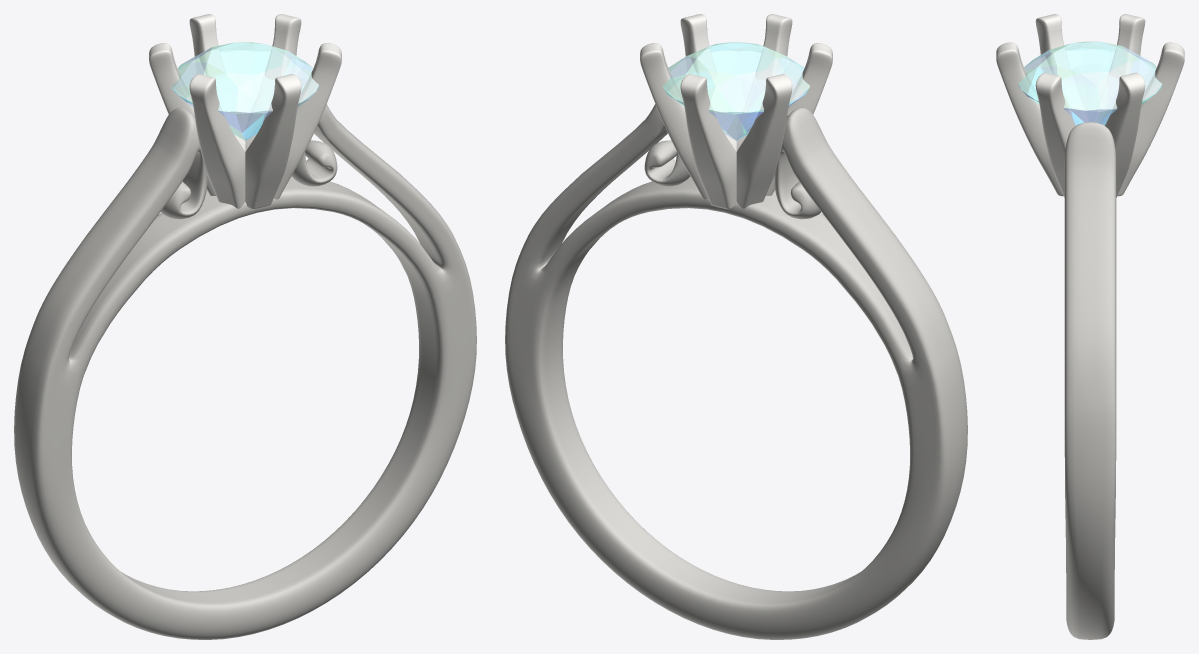
3 views of the same model, side by side, from view 1: azimuth 30°, elevation 25°; view 2: azimuth 150°, elevation 25°; view 3: azimuth 270°, elevation 25° (orthographic). The views are drawn at different scales.
Visible parts, largest first — view 1: Layer 02(805D15DE-A924-43FA-8D7A-ADD16711300C), Diamond_Round(44F64F1B-52D7-4588-BD00-1A5242B2ACEF), Layer 02(F8CFA0B3-F978-4781-A988-0CBB15BE5199), Layer 02(427230C5-A20C-4345-B4D0-DAF465520F6F), Layer 02(BFC679F0-8A92-4658-B3F6-0063EBA39047), Layer 02(2A53914D-05DD-40F1-9F04-DC568554DB18), Layer 02(ACBE7E28-9450-465B-BAFB-ADCAD176A19F), Layer 02(F5360C41-58A0-41E4-8BD1-5F379E0C0432); view 2: Layer 02(805D15DE-A924-43FA-8D7A-ADD16711300C), Diamond_Round(44F64F1B-52D7-4588-BD00-1A5242B2ACEF), Layer 02(ACBE7E28-9450-465B-BAFB-ADCAD176A19F), Layer 02(2A53914D-05DD-40F1-9F04-DC568554DB18), Layer 02(F5360C41-58A0-41E4-8BD1-5F379E0C0432), Layer 02(427230C5-A20C-4345-B4D0-DAF465520F6F), Layer 02(BFC679F0-8A92-4658-B3F6-0063EBA39047), Layer 02(F8CFA0B3-F978-4781-A988-0CBB15BE5199); view 3: Layer 02(805D15DE-A924-43FA-8D7A-ADD16711300C), Diamond_Round(44F64F1B-52D7-4588-BD00-1A5242B2ACEF), Layer 02(F8CFA0B3-F978-4781-A988-0CBB15BE5199), Layer 02(ACBE7E28-9450-465B-BAFB-ADCAD176A19F), Layer 02(BFC679F0-8A92-4658-B3F6-0063EBA39047), Layer 02(F5360C41-58A0-41E4-8BD1-5F379E0C0432), Layer 02(2A53914D-05DD-40F1-9F04-DC568554DB18), Layer 02(427230C5-A20C-4345-B4D0-DAF465520F6F).
Boxes of the visible parts, box(x1,y1,x2,y2) form: Layer 02(805D15DE-A924-43FA-8D7A-ADD16711300C): box(14, 104, 476, 639); Diamond_Round(44F64F1B-52D7-4588-BD00-1A5242B2ACEF): box(172, 42, 318, 140); Layer 02(F8CFA0B3-F978-4781-A988-0CBB15BE5199): box(245, 74, 301, 209); Layer 02(427230C5-A20C-4345-B4D0-DAF465520F6F): box(189, 74, 245, 208); Layer 02(BFC679F0-8A92-4658-B3F6-0063EBA39047): box(274, 43, 341, 199); Layer 02(2A53914D-05DD-40F1-9F04-DC568554DB18): box(149, 43, 215, 195); Layer 02(ACBE7E28-9450-465B-BAFB-ADCAD176A19F): box(189, 14, 245, 151); Layer 02(F5360C41-58A0-41E4-8BD1-5F379E0C0432): box(245, 14, 301, 151); Layer 02(805D15DE-A924-43FA-8D7A-ADD16711300C): box(505, 104, 967, 639); Diamond_Round(44F64F1B-52D7-4588-BD00-1A5242B2ACEF): box(662, 41, 809, 140); Layer 02(ACBE7E28-9450-465B-BAFB-ADCAD176A19F): box(680, 74, 736, 209); Layer 02(2A53914D-05DD-40F1-9F04-DC568554DB18): box(736, 74, 792, 208); Layer 02(F5360C41-58A0-41E4-8BD1-5F379E0C0432): box(640, 43, 707, 199); Layer 02(427230C5-A20C-4345-B4D0-DAF465520F6F): box(766, 43, 832, 195); Layer 02(BFC679F0-8A92-4658-B3F6-0063EBA39047): box(680, 14, 736, 151); Layer 02(F8CFA0B3-F978-4781-A988-0CBB15BE5199): box(736, 14, 792, 151); Layer 02(805D15DE-A924-43FA-8D7A-ADD16711300C): box(1064, 122, 1116, 639); Diamond_Round(44F64F1B-52D7-4588-BD00-1A5242B2ACEF): box(1018, 41, 1162, 125); Layer 02(F8CFA0B3-F978-4781-A988-0CBB15BE5199): box(996, 42, 1063, 196); Layer 02(ACBE7E28-9450-465B-BAFB-ADCAD176A19F): box(1117, 42, 1184, 196); Layer 02(BFC679F0-8A92-4658-B3F6-0063EBA39047): box(1035, 72, 1075, 197); Layer 02(F5360C41-58A0-41E4-8BD1-5F379E0C0432): box(1105, 72, 1145, 197); Layer 02(2A53914D-05DD-40F1-9F04-DC568554DB18): box(1109, 14, 1145, 78); Layer 02(427230C5-A20C-4345-B4D0-DAF465520F6F): box(1035, 14, 1071, 78).
Bounding box in the file's own units: 1.93 × 2.42 × 0.7236.
8 materials, 1 textured.
